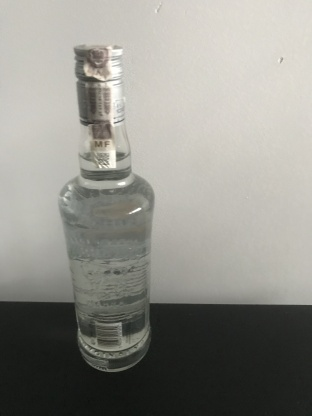nakretka: (72, 41, 127, 127)
